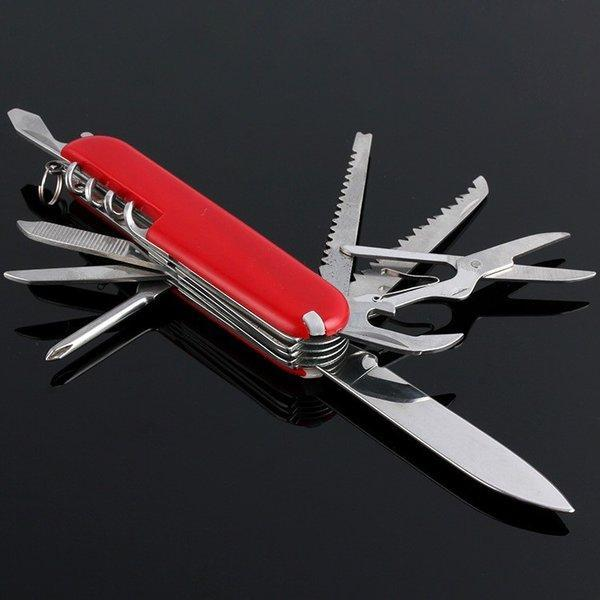faca: (320, 346, 573, 511), (350, 176, 488, 298), (319, 132, 371, 294), (18, 221, 158, 270), (341, 300, 463, 354), (4, 265, 163, 284)
